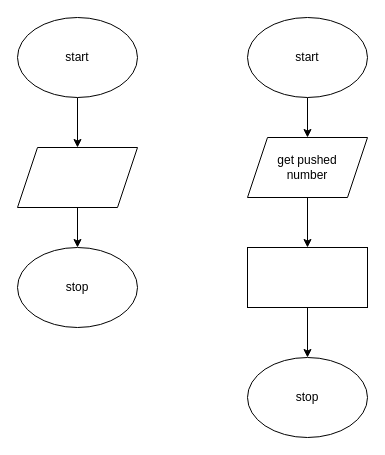
Some shapes in this 385 by 455 pixel diagram are drawn without their labels. Here are the shapes that lost their labels. From the top down, the box of each, then its label:
(16, 146, 138, 208): pop stack
(246, 246, 368, 308): push number
